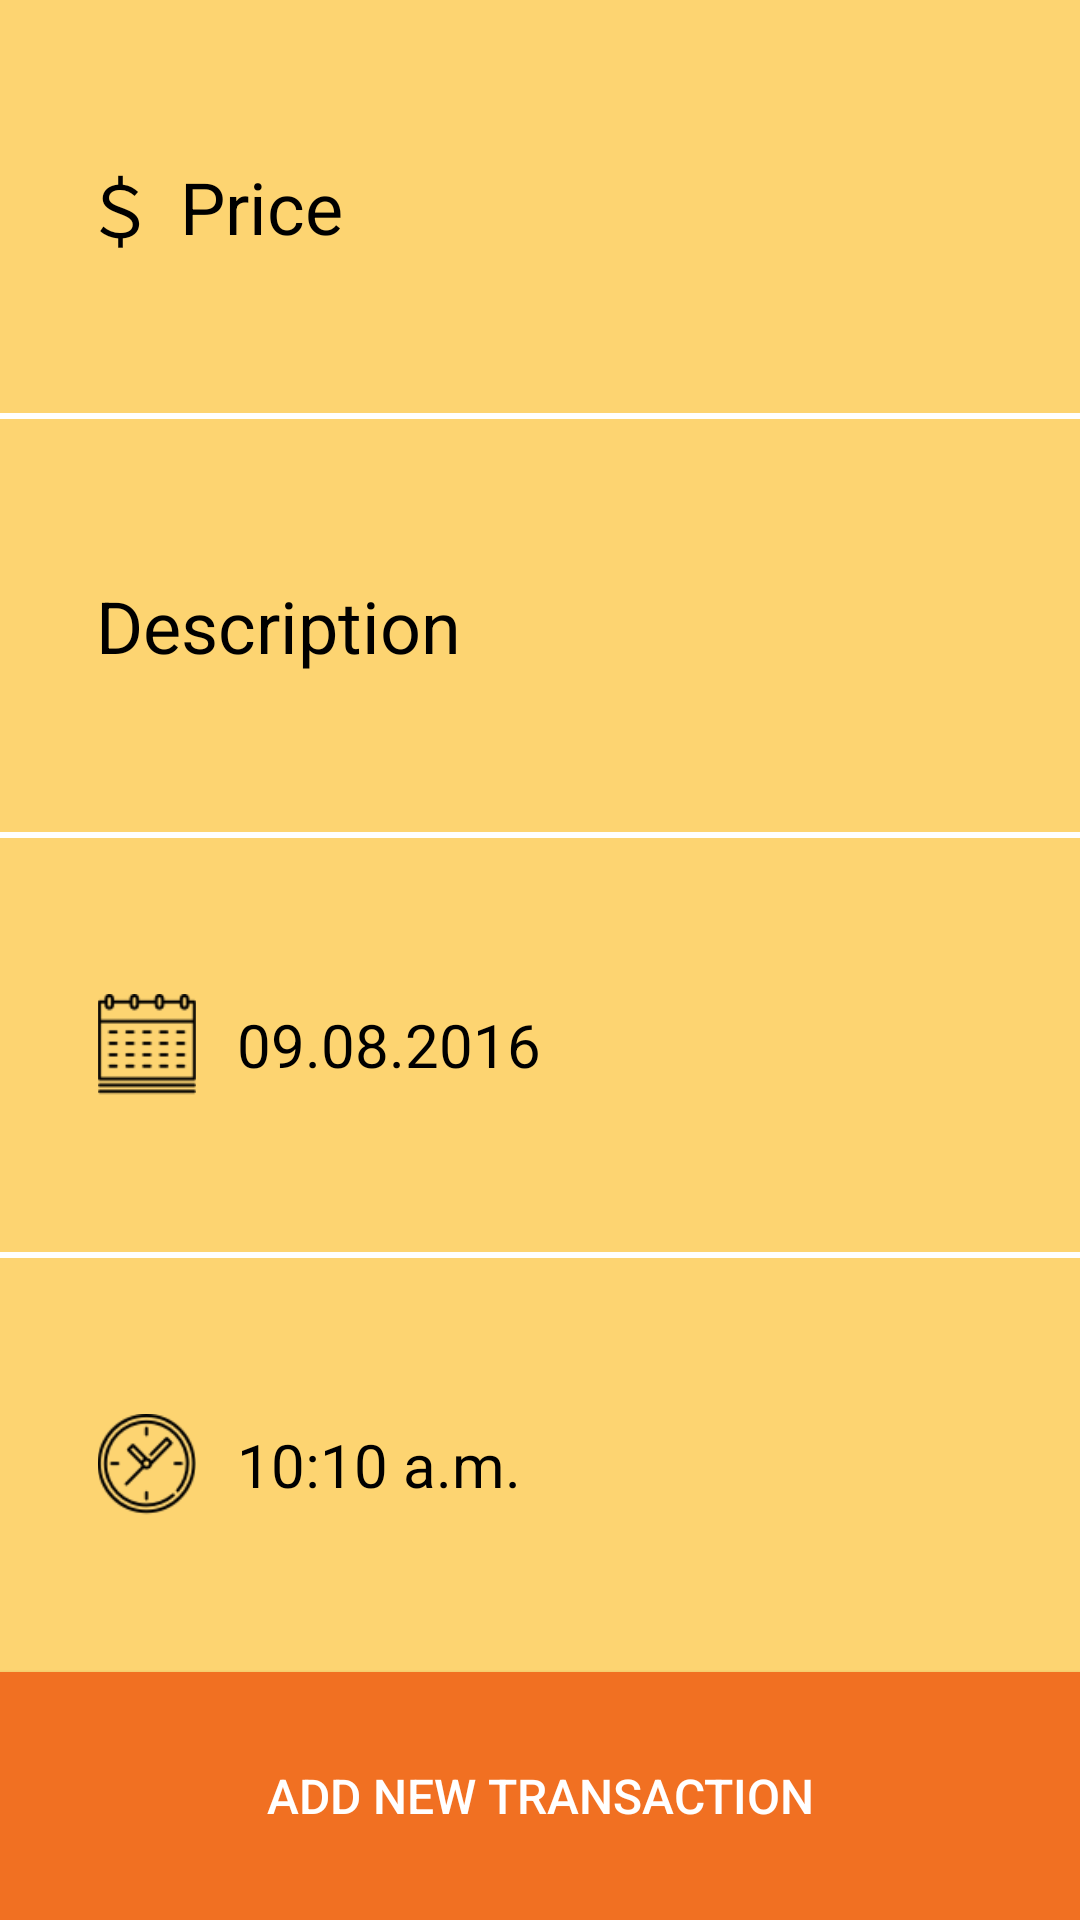

Icon bounding boxes for this 1080x1920 phone screenshot, format (x1, y1, x2, y2):
calendar: (98, 994, 196, 1094)
clock: (98, 1414, 196, 1514)
